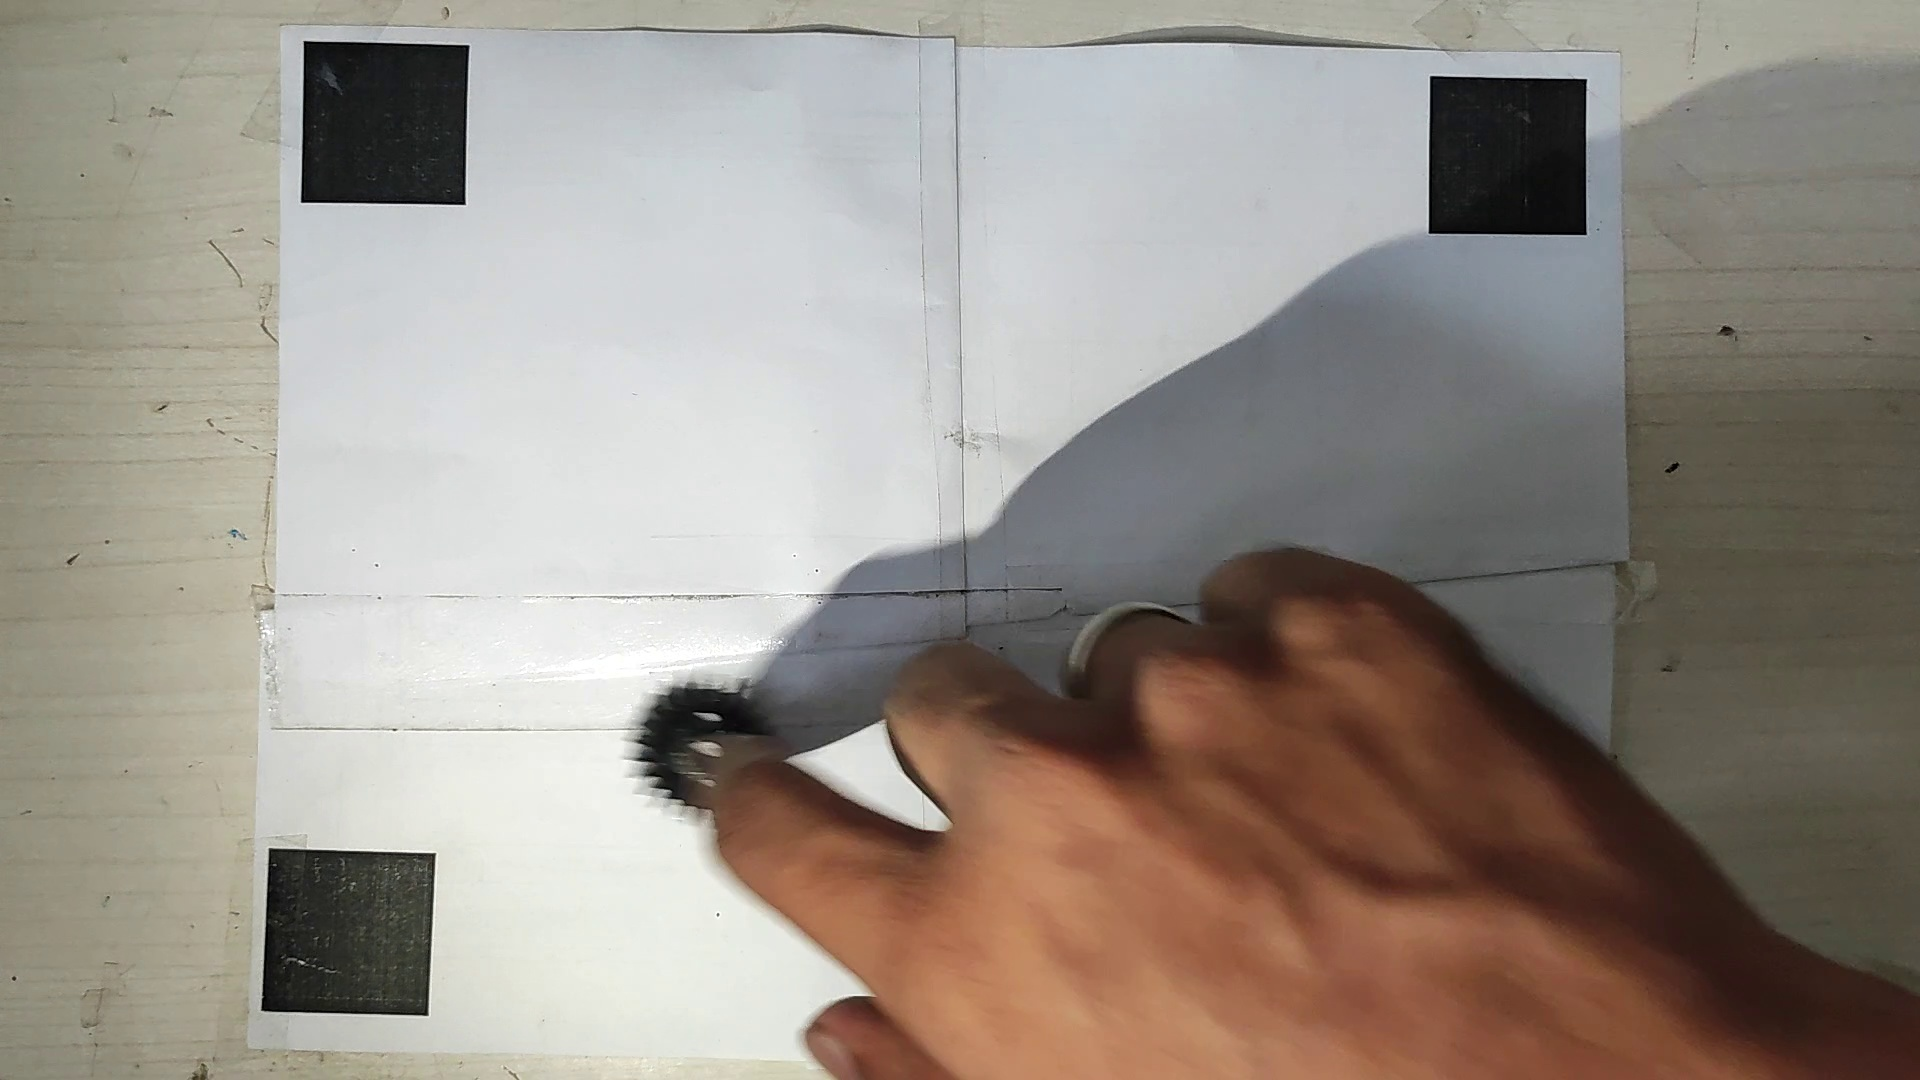Gear: (620, 680, 765, 823)
